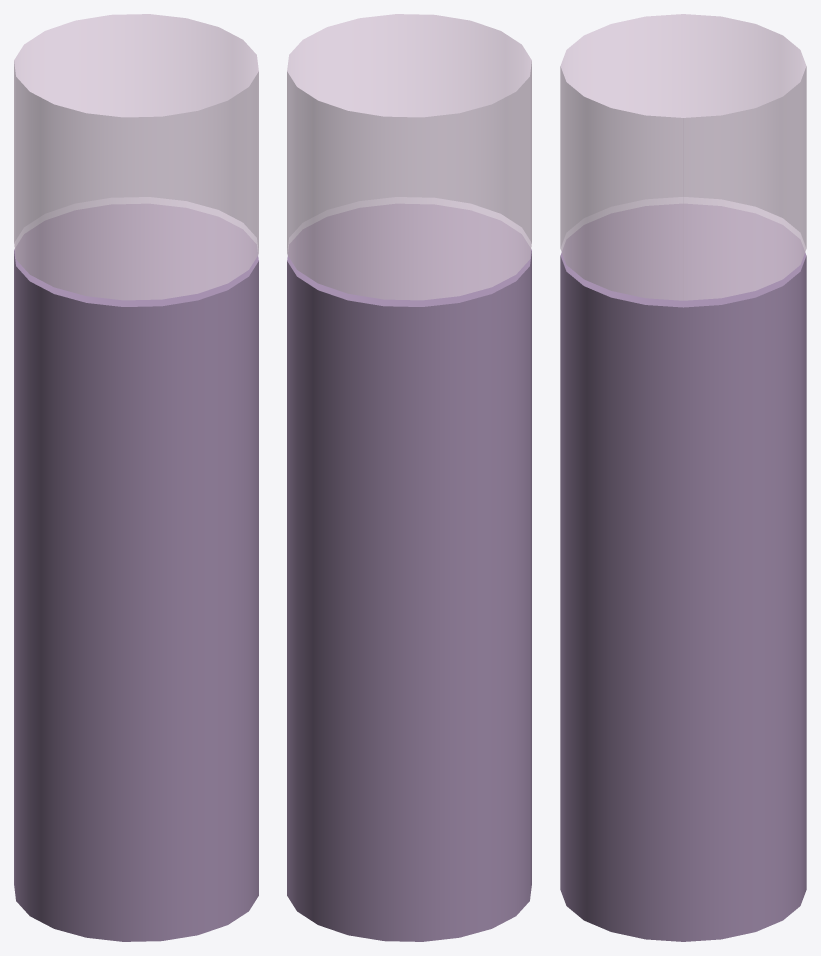
Rendered from Perfume_Purple.fbx.
3 renders of one model, left to right at view 1: azimuth 30°, elevation 25°; view 2: azimuth 150°, elevation 25°; view 3: azimuth 270°, elevation 25°, orthographic.
Parts seen in each view (by area): view 1: polySurface399; view 2: polySurface399; view 3: polySurface399.
Boxes of the visible parts, bbox=[...] form: polySurface399: bbox=[14, 14, 258, 941]; polySurface399: bbox=[287, 14, 531, 941]; polySurface399: bbox=[560, 14, 806, 941].
Bounding box in the file's own units: 0.04 × 0.1478 × 0.04.
